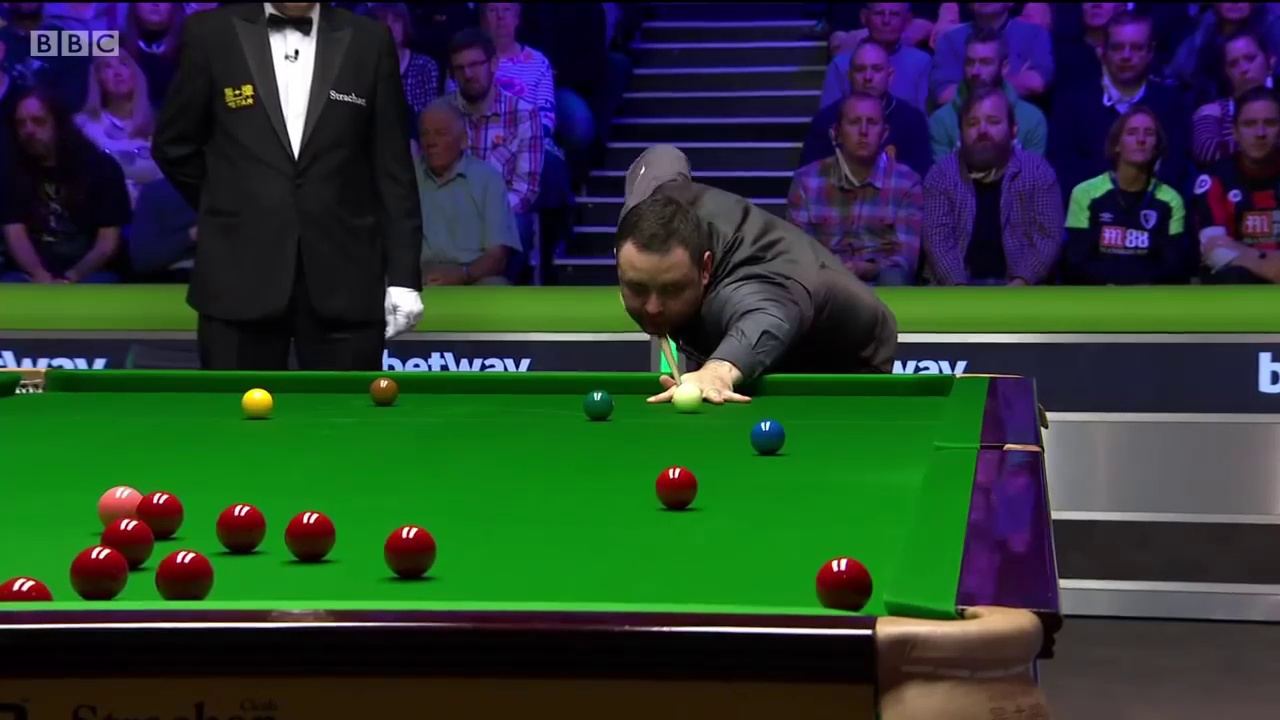blue: (750, 421, 785, 452)
brown: (367, 376, 399, 404)
green: (584, 387, 613, 422)
pink: (98, 488, 138, 517)
red: (69, 545, 129, 600), (815, 555, 873, 610), (155, 548, 214, 601), (282, 510, 337, 564), (383, 528, 437, 578), (217, 502, 265, 552), (654, 463, 698, 507), (97, 517, 157, 547), (141, 489, 183, 520)
white: (672, 383, 703, 415)
yellow: (237, 389, 276, 418)
